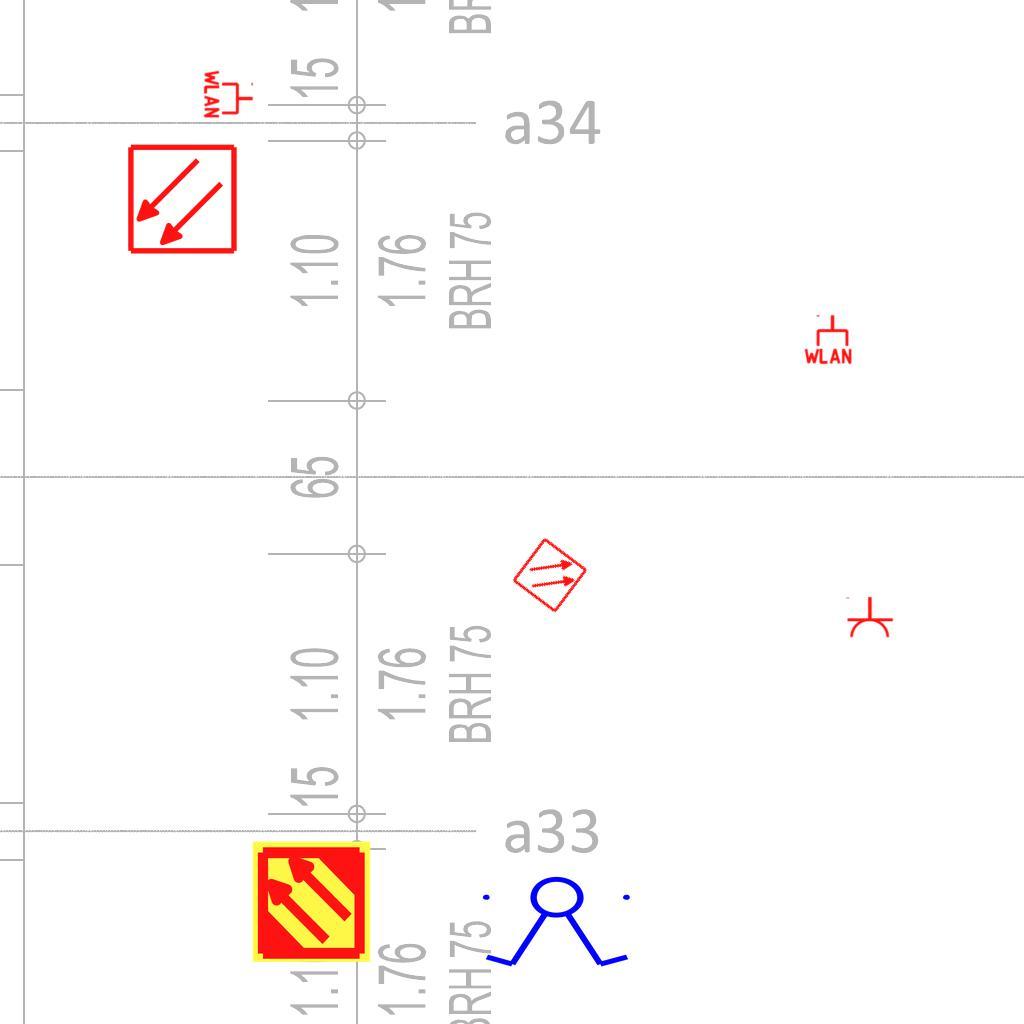ASR_Ansaugrauchmelder: (249, 839, 374, 964)
RMO_Rauchmelder_optischer: (126, 143, 239, 256), (510, 535, 590, 615)
Schukosteckdose_einfach: (844, 596, 894, 639)
Serienschalter: (474, 875, 642, 971)
WLAN: (203, 68, 255, 120), (802, 313, 854, 365)
